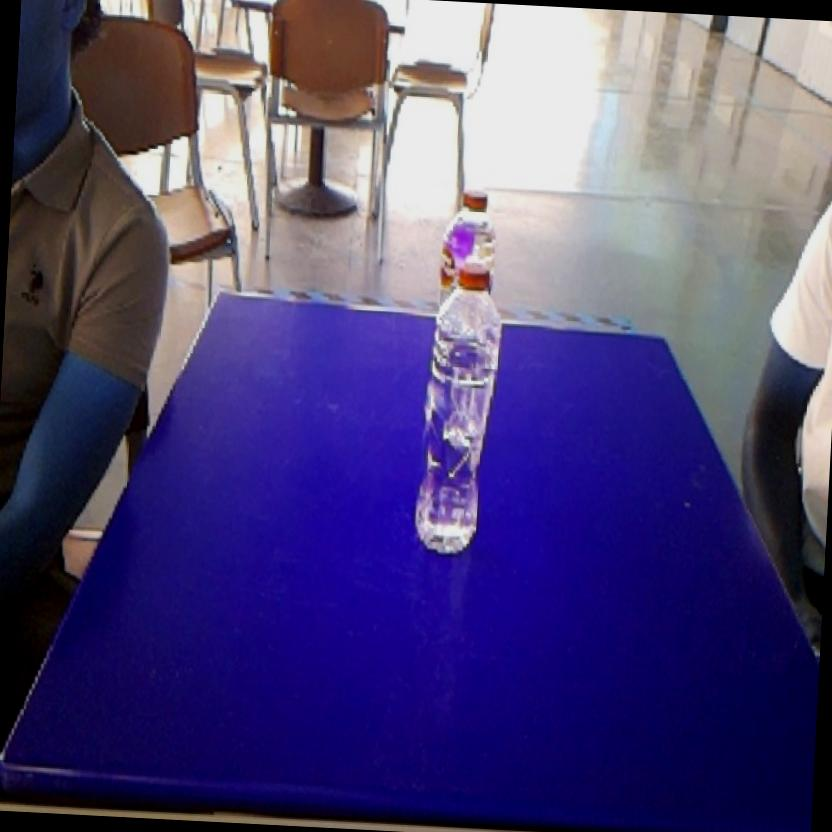good: (429, 172, 514, 260)
no_label: (407, 248, 513, 564)
